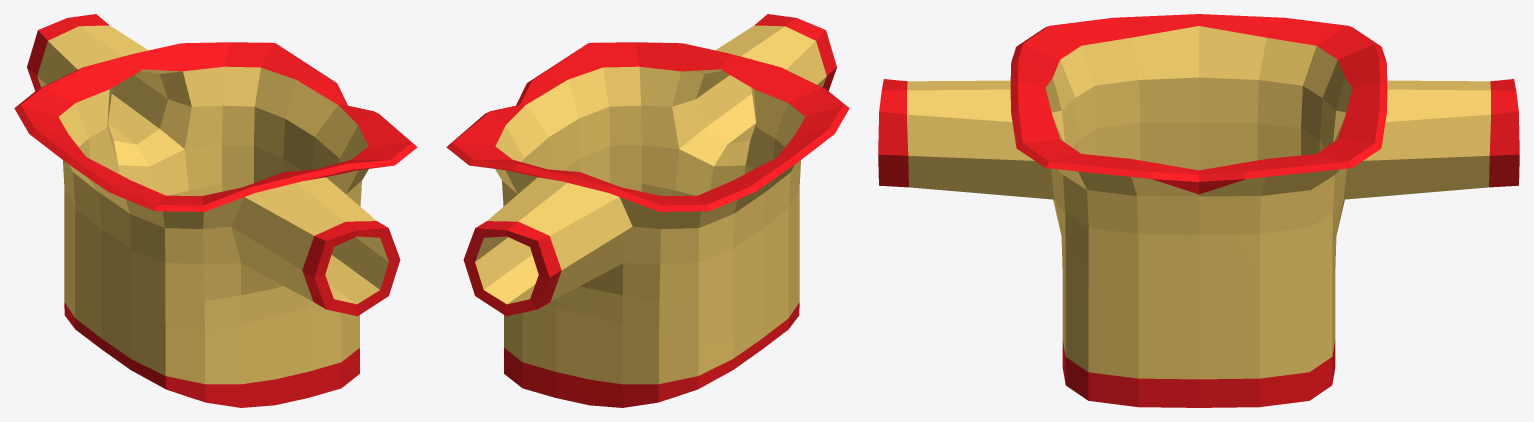
Rendered from roupa manga longa.fbx.
The picture shows the model from 3 angles, left to right: view 1: azimuth 30°, elevation 25°; view 2: azimuth 150°, elevation 25°; view 3: azimuth 270°, elevation 25°; orthographic projection. The views are drawn at different scales.
Parts seen in each view (by area): view 1: Cube.012; view 2: Cube.012; view 3: Cube.012.
Boxes of the visible parts, x1,y1,x2,y2 form: Cube.012: [14, 14, 417, 407]; Cube.012: [446, 14, 849, 407]; Cube.012: [878, 14, 1519, 407].
Bounding box in the file's own units: 156 × 125 × 272.
